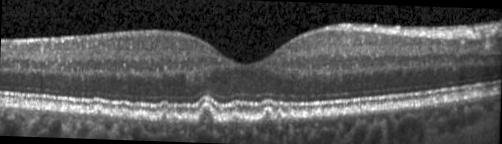retinal_drusen: (199, 106, 214, 123), (257, 109, 272, 124), (117, 110, 131, 118), (137, 112, 149, 119), (93, 108, 102, 116), (232, 113, 240, 121), (161, 111, 168, 120), (171, 114, 179, 120), (286, 113, 294, 118), (277, 111, 281, 118)
